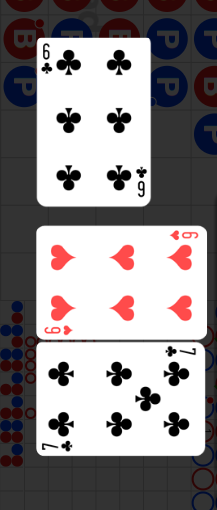6C: (40, 42, 54, 77)
6H: (168, 229, 200, 242)
7C: (163, 345, 198, 359)
